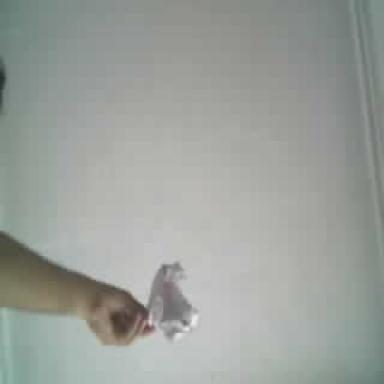paper: (149, 262, 198, 338)
